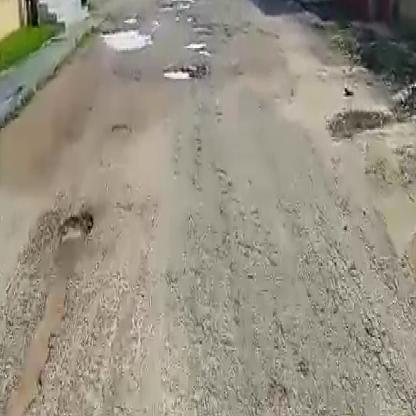pothole: (54, 215, 95, 248), (102, 23, 152, 49), (161, 66, 197, 82), (188, 40, 212, 51)
